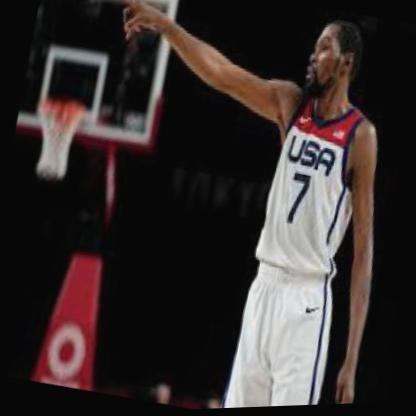rim: (32, 91, 90, 127)
